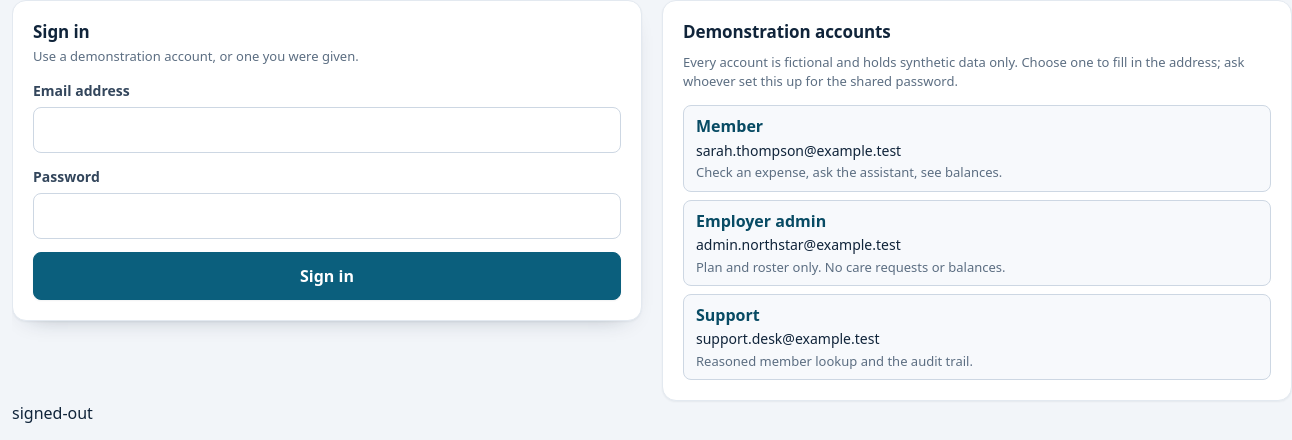
Test: signing in › gives the same message whatever the reason for failure
Type "nobody@example.test" into the field labelled "Email address".
click(327, 130); type("nobody@example.test")  # box [33,107,621,153]
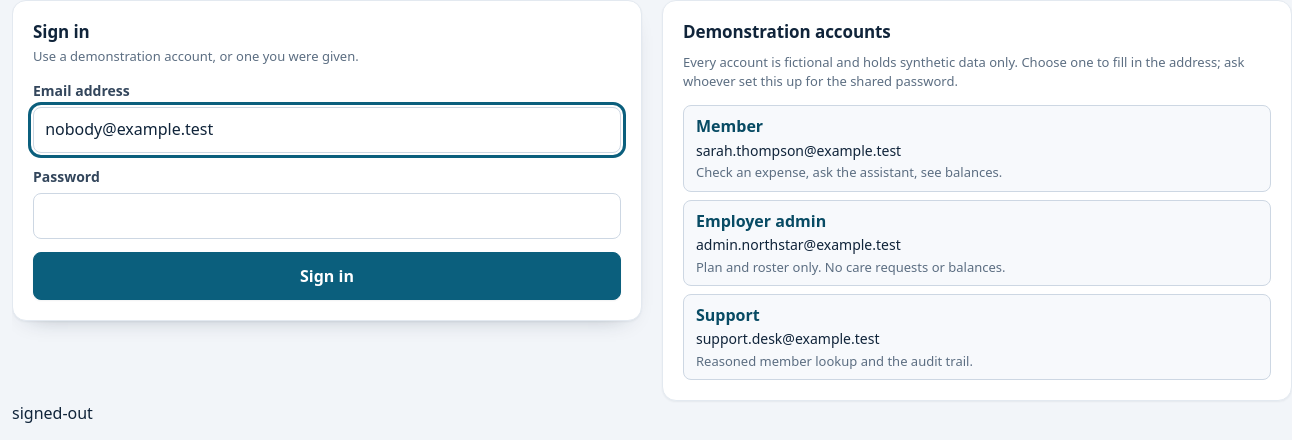
Type "wrong" into the password field labelled "Password".
click(327, 216); type("wrong")  # box [33,193,621,239]
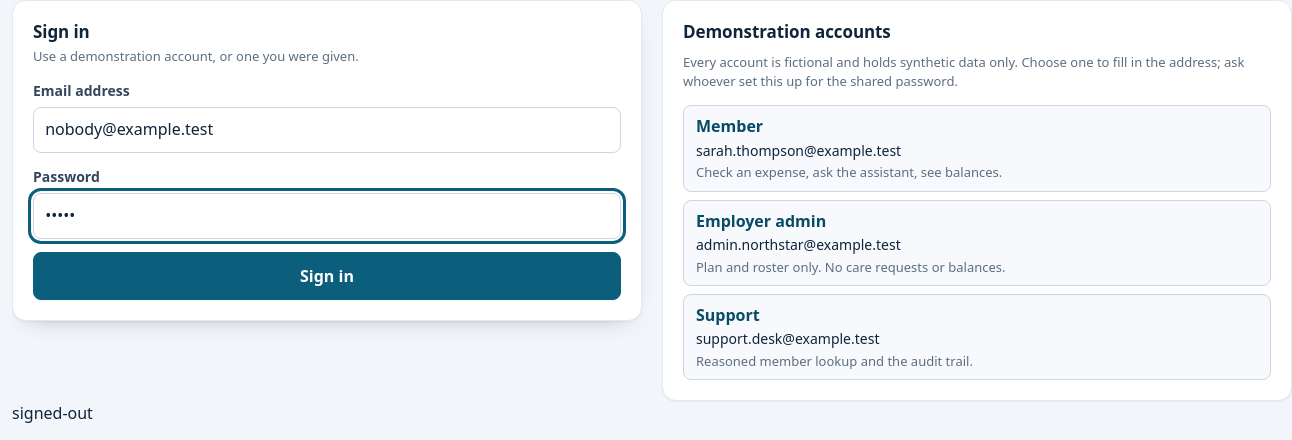
Click the button "Sign in".
click(327, 276)  # box [33,252,621,300]
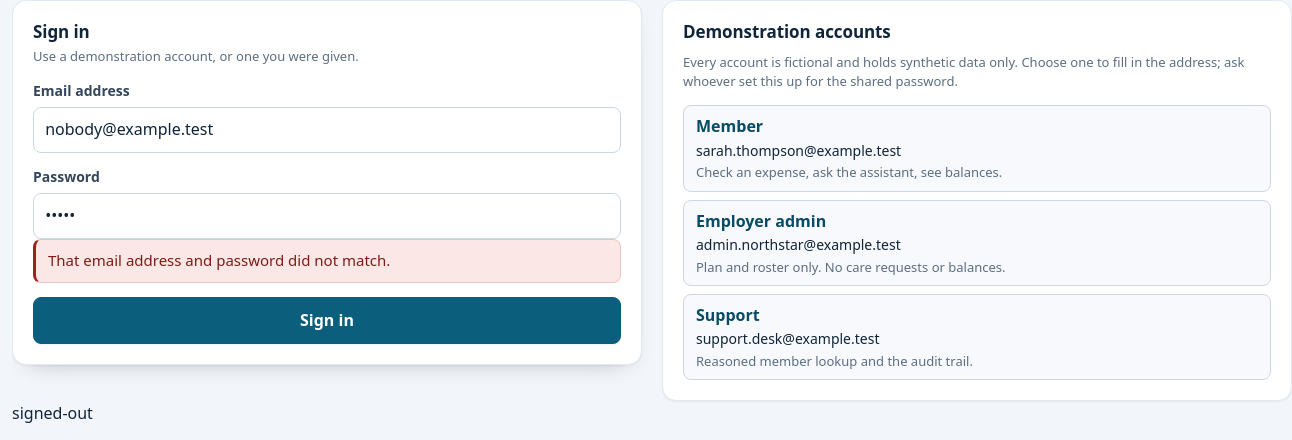
Expected: the text with test id "probe" reads "signed-out", [12,402,93,424]
Expected: the message reads "That email address and password did not match.", [48,250,390,270]
